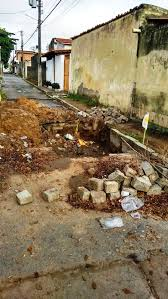rubble: (12, 105, 162, 207)
